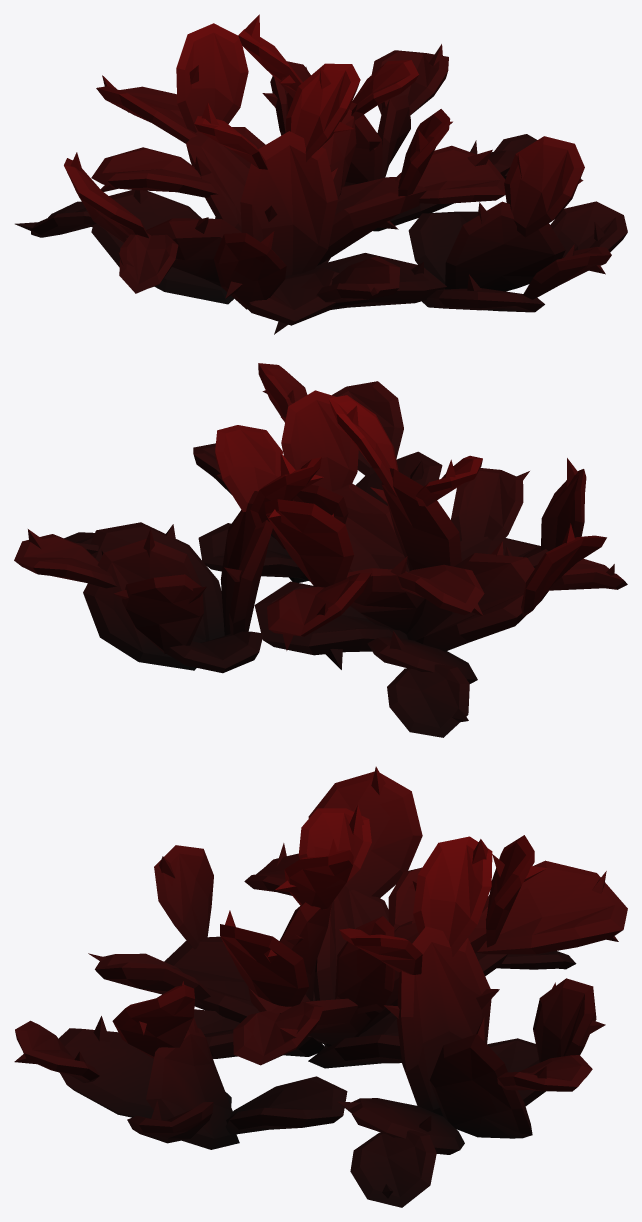
Rendered from SM_Env_Cactus_02.fbx.
3 views of the same model, one above another, from view 1: azimuth 30°, elevation 25°; view 2: azimuth 150°, elevation 25°; view 3: azimuth 270°, elevation 25° (orthographic). The views are drawn at different scales.
Visible parts, largest first — view 1: SM_Env_Cactus_02_LOD0; view 2: SM_Env_Cactus_02_LOD0; view 3: SM_Env_Cactus_02_LOD0.
Boxes of the visible parts, left/top/right/bottom form: SM_Env_Cactus_02_LOD0: left=15, top=14, right=627, bottom=334; SM_Env_Cactus_02_LOD0: left=14, top=363, right=627, bottom=737; SM_Env_Cactus_02_LOD0: left=14, top=766, right=627, bottom=1207.
Size of what is drawn, in the model's own units: 207 by 86.33 by 190.
